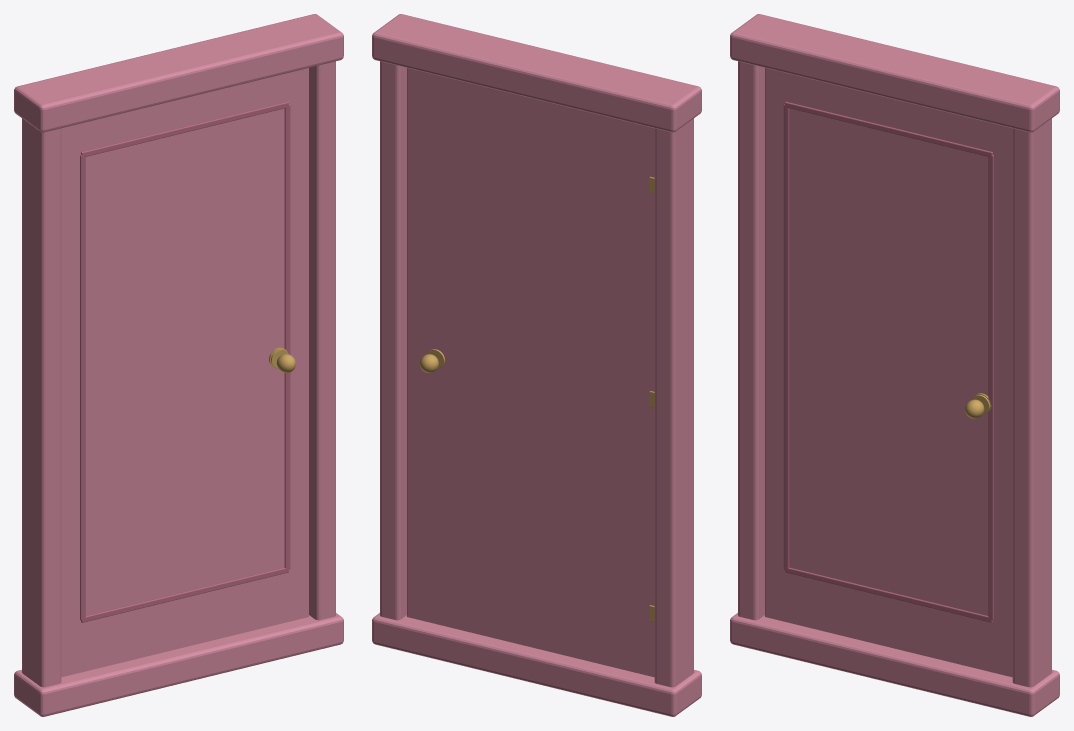
Rendered from door.glb.
3 views of the same model, side by side, from view 1: azimuth 30°, elevation 25°; view 2: azimuth 150°, elevation 25°; view 3: azimuth 330°, elevation 25° (orthographic).
Visible parts, largest first — view 1: Door_Leaf, Door_Frame, Door_LeafDetail_6, Door_LeafDetail_5, Door_LeafDetail_8, Door_LeafDetail_7; view 2: Door_Leaf, Door_Frame; view 3: Door_Leaf, Door_Frame, Door_LeafDetail_5, Door_LeafDetail_6, Door_LeafDetail_8, Door_LeafDetail_7.
Boxes of the visible parts, left/top/right/bottom form: Door_Leaf: left=61, top=68, right=308, bottom=677; Door_Frame: left=14, top=14, right=343, bottom=716; Door_LeafDetail_6: left=284, top=104, right=290, bottom=569; Door_LeafDetail_5: left=80, top=155, right=85, bottom=620; Door_LeafDetail_8: left=81, top=101, right=288, bottom=156; Door_LeafDetail_7: left=81, top=567, right=288, bottom=622; Door_Leaf: left=407, top=68, right=654, bottom=677; Door_Frame: left=372, top=14, right=701, bottom=716; Door_Leaf: left=765, top=68, right=1012, bottom=677; Door_Frame: left=730, top=14, right=1059, bottom=716; Door_LeafDetail_5: left=783, top=104, right=789, bottom=569; Door_LeafDetail_6: left=988, top=155, right=993, bottom=620; Door_LeafDetail_8: left=785, top=101, right=992, bottom=156; Door_LeafDetail_7: left=785, top=567, right=992, bottom=622.
Bounding box in the file's own units: 1.04 × 2 × 0.224.
